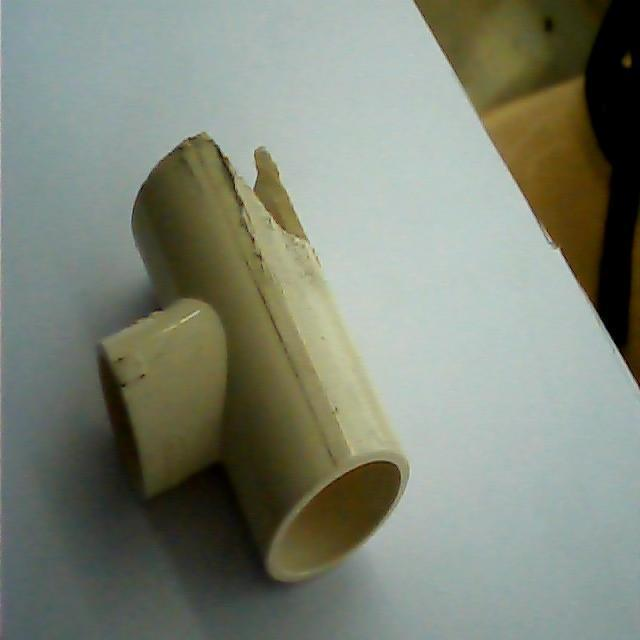Defective: (198, 118, 314, 252)
T Joint: (99, 133, 411, 586)
